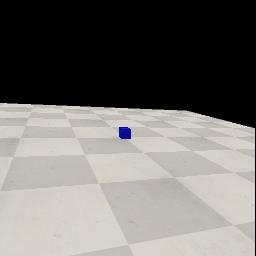box: (119, 127, 131, 139)
